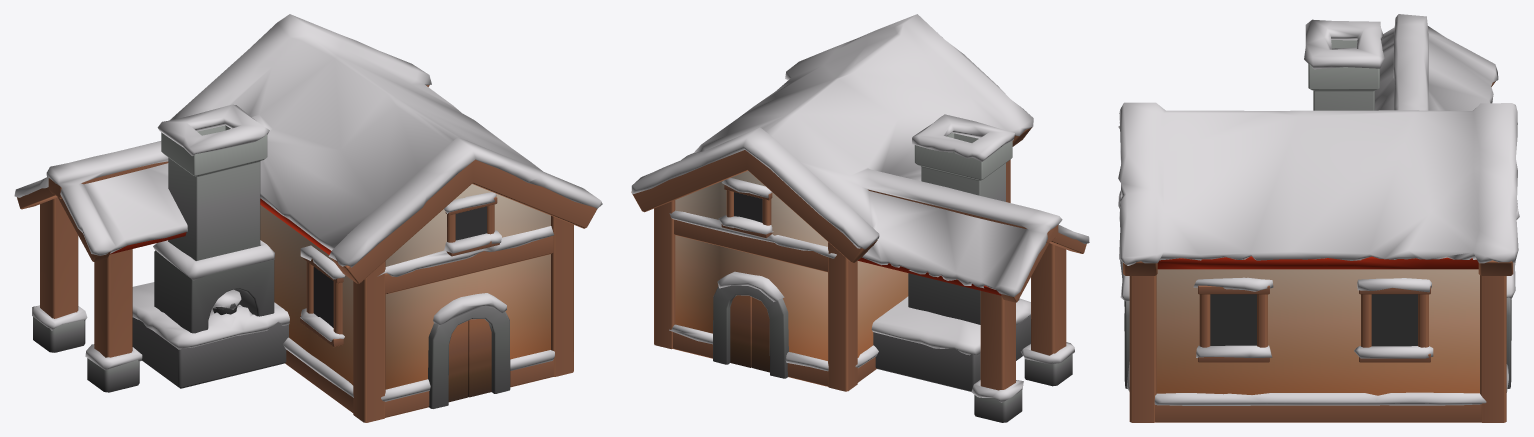
Rendered from WorkSpaceHouseSnowy_1.fbx.
3 renders of one model, left to right at view 1: azimuth 30°, elevation 25°; view 2: azimuth 150°, elevation 25°; view 3: azimuth 270°, elevation 25°, orthographic. The views are drawn at different scales.
Parts seen in each view (by area): view 1: WorkSpaceHouseSnowy_1; view 2: WorkSpaceHouseSnowy_1; view 3: WorkSpaceHouseSnowy_1.
Boxes of the visible parts, left/top/right/bottom form: WorkSpaceHouseSnowy_1: left=14, top=14, right=602, bottom=422; WorkSpaceHouseSnowy_1: left=631, top=14, right=1089, bottom=422; WorkSpaceHouseSnowy_1: left=1118, top=14, right=1519, bottom=422.
Size of the model in its own units: 559 by 324 by 441.
